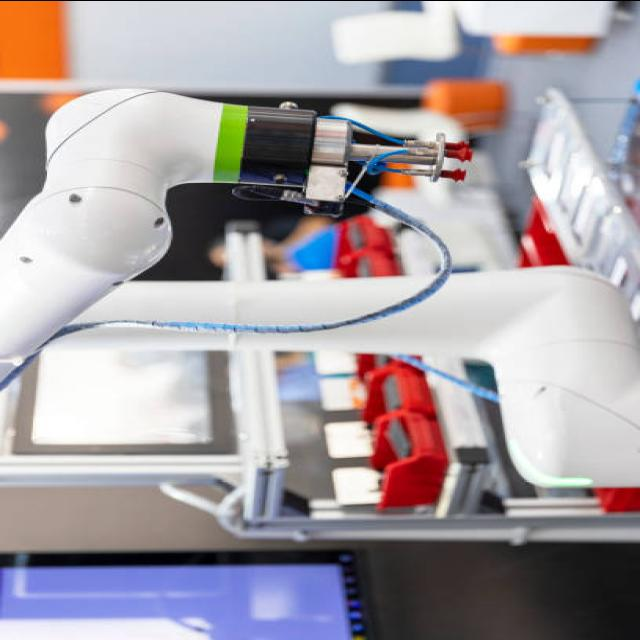Robotic-arm: (0, 66, 364, 404)
